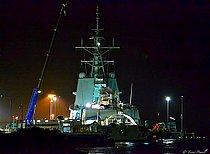MIL_Ship: (60, 39, 148, 134)
